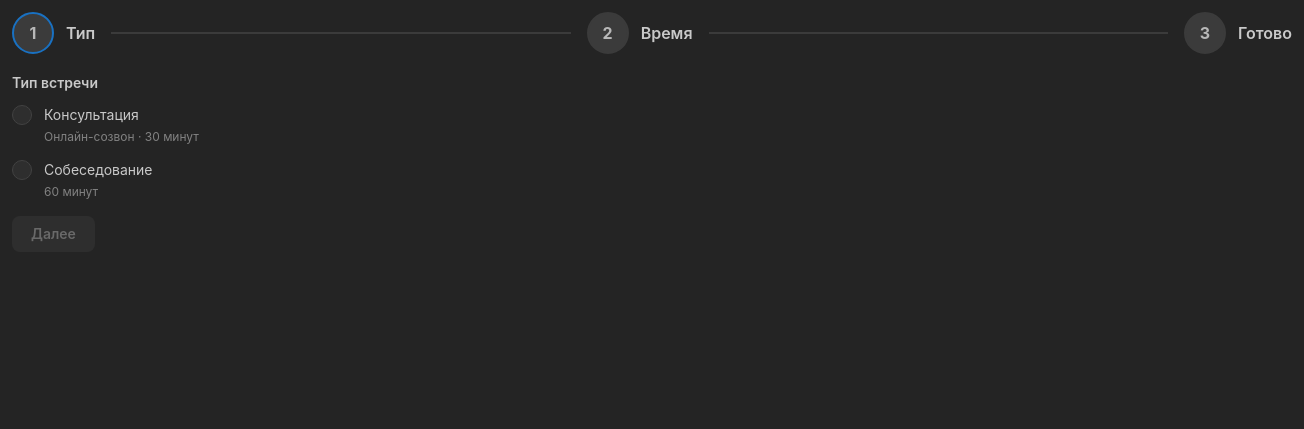
Test: гостевой вид › пока записи грузятся — «Загрузка записей…» вместо сетки
Click the radio button labelled "Консультация" at (22, 115), box [12, 105, 32, 125]
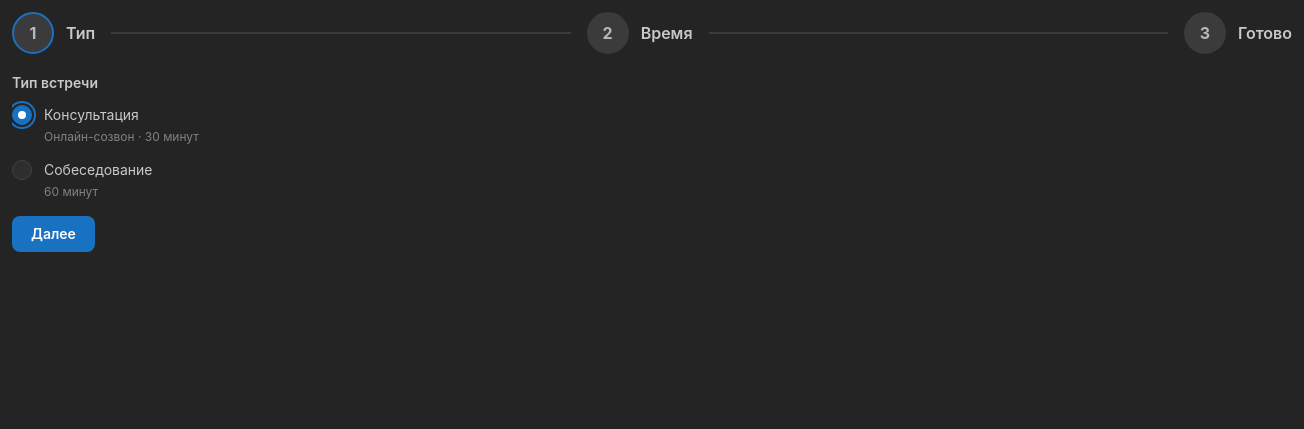
Click the button "Далее" at (53, 234), box [12, 216, 95, 252]
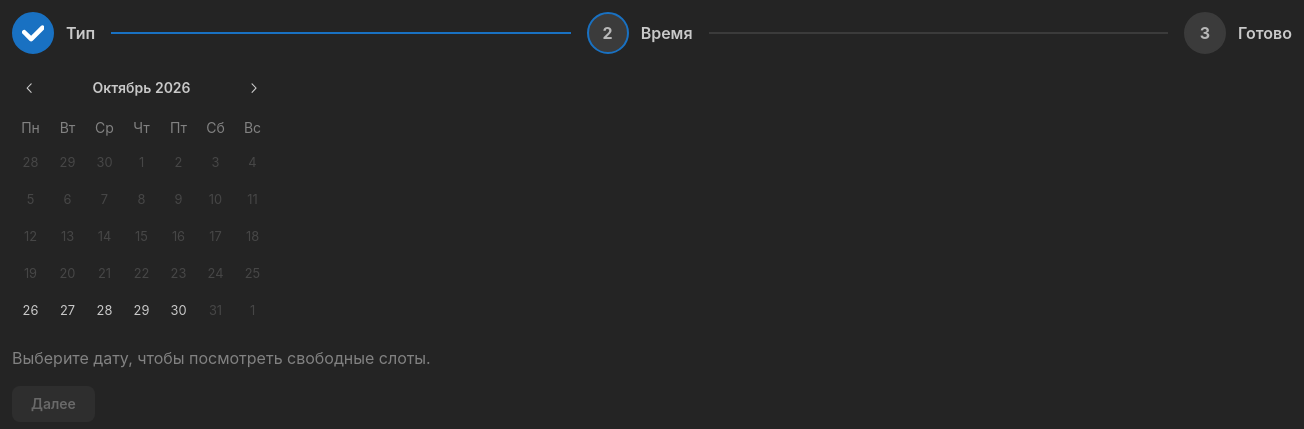
Click the button "26" at (30, 311), box [12, 293, 48, 329]
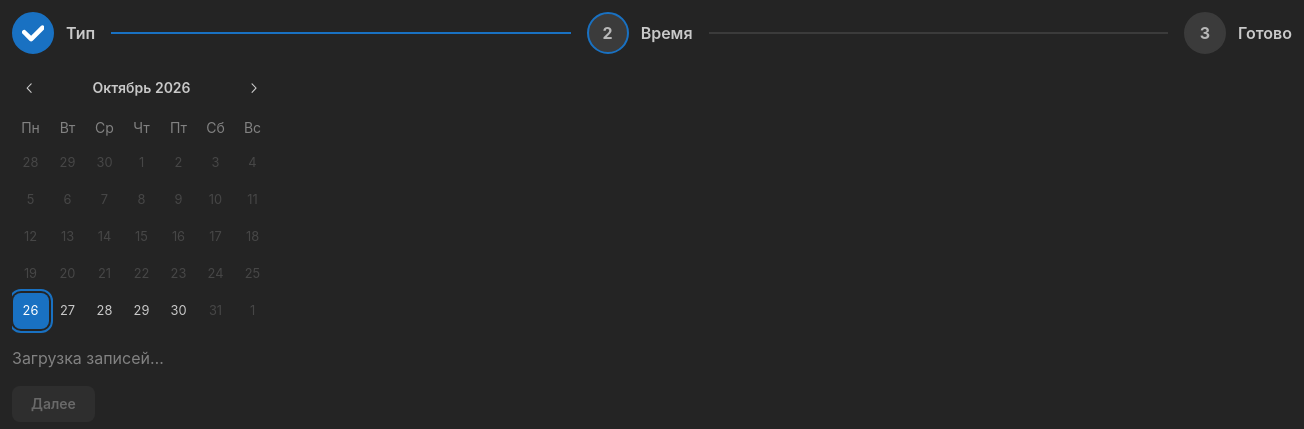
Expected: the text "Загрузка записей…" is shown, [12, 348, 164, 368]
